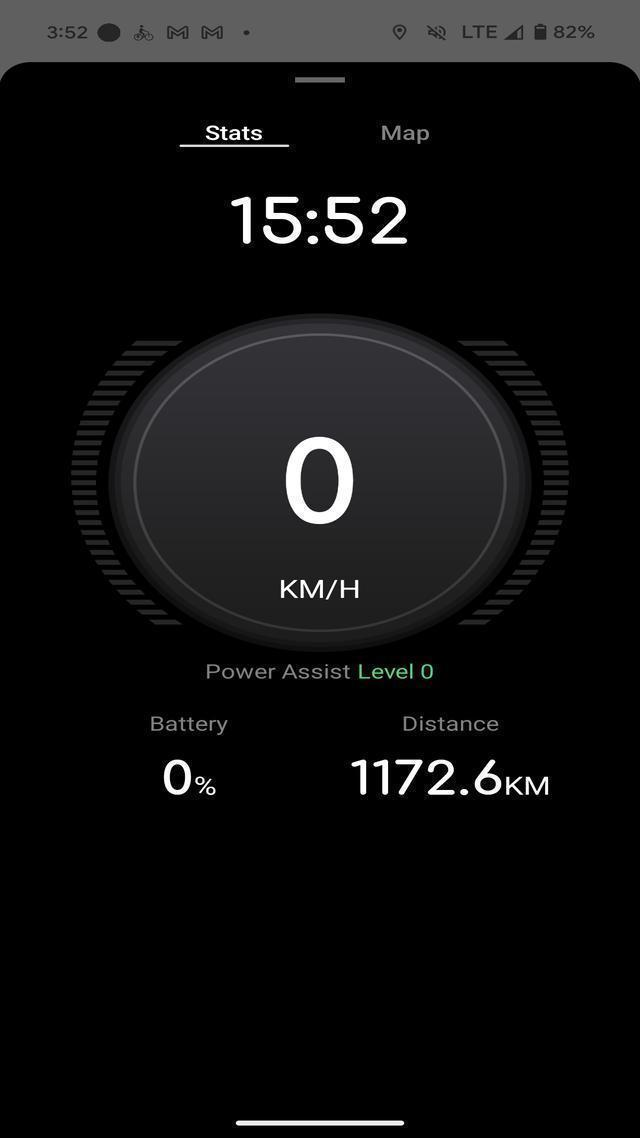Icon: (199, 122, 269, 144), (458, 21, 526, 43), (378, 124, 430, 149), (94, 22, 124, 44), (130, 22, 156, 44), (162, 22, 190, 42), (425, 22, 449, 42), (199, 24, 226, 40), (530, 22, 548, 43), (390, 21, 408, 41), (240, 25, 255, 38)
Image: (52, 312, 589, 698)
Text: (224, 192, 416, 252), (344, 756, 556, 803), (198, 656, 442, 689), (284, 436, 353, 524), (149, 752, 220, 799), (270, 570, 366, 601), (398, 712, 505, 738), (149, 714, 231, 738), (44, 20, 90, 42), (552, 22, 597, 42)
